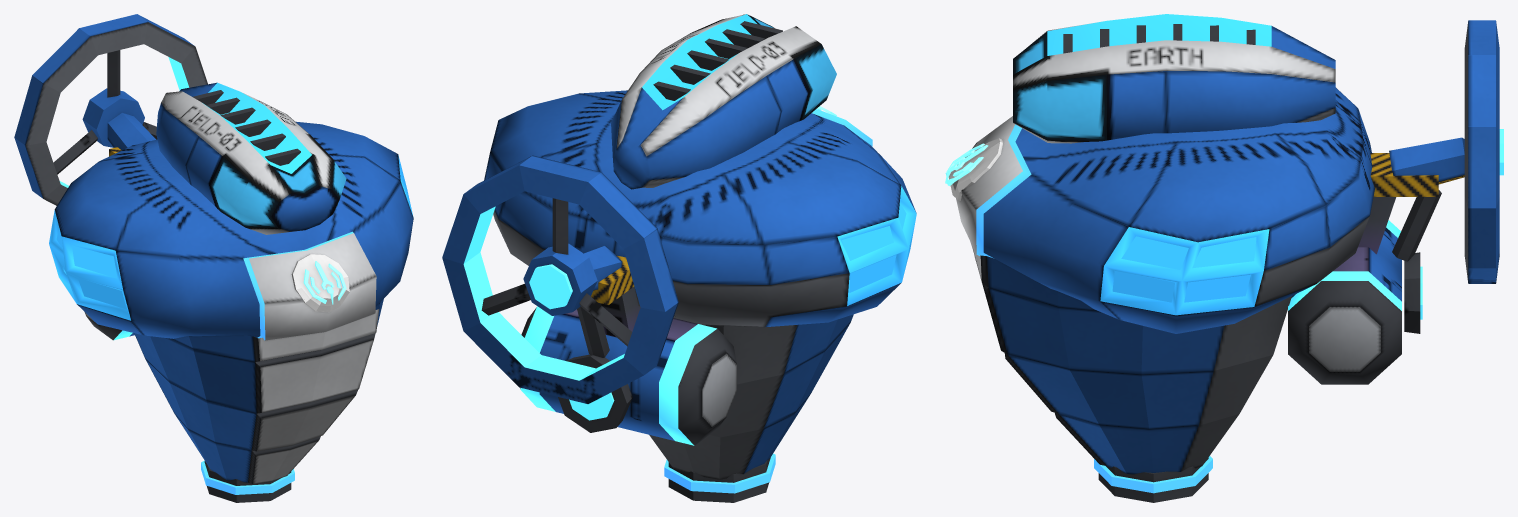
Rendered from ForceFieldTorsoX.glb.
3 renders of one model, left to right at view 1: azimuth 30°, elevation 25°; view 2: azimuth 150°, elevation 25°; view 3: azimuth 270°, elevation 25°, orthographic. The views are drawn at different scales.
Visible parts, largest first — view 1: ForceFieldTorsoX_Body, ForceFieldTorsoX_Head; view 2: ForceFieldTorsoX_Body, ForceFieldTorsoX_Head; view 3: ForceFieldTorsoX_Body, ForceFieldTorsoX_Head.
Boxes of the visible parts, <box> form: ForceFieldTorsoX_Body: <box>14,14,413,502</box>; ForceFieldTorsoX_Head: <box>156,82,346,234</box>; ForceFieldTorsoX_Body: <box>442,90,916,502</box>; ForceFieldTorsoX_Head: <box>611,14,836,189</box>; ForceFieldTorsoX_Body: <box>945,20,1503,502</box>; ForceFieldTorsoX_Head: <box>1013,14,1335,143</box>.
Size of the model in its own units: 10.54 by 10.92 by 12.21.
Materials: 12 (8 with a texture image).
